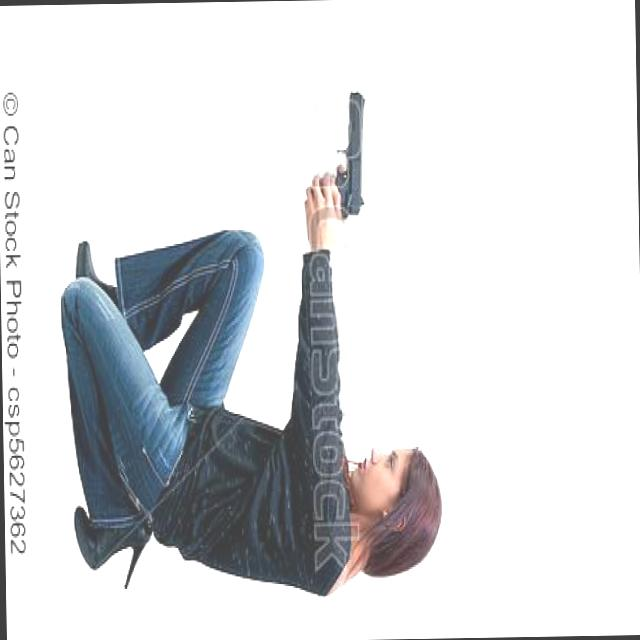handgun: (302, 88, 368, 218)
